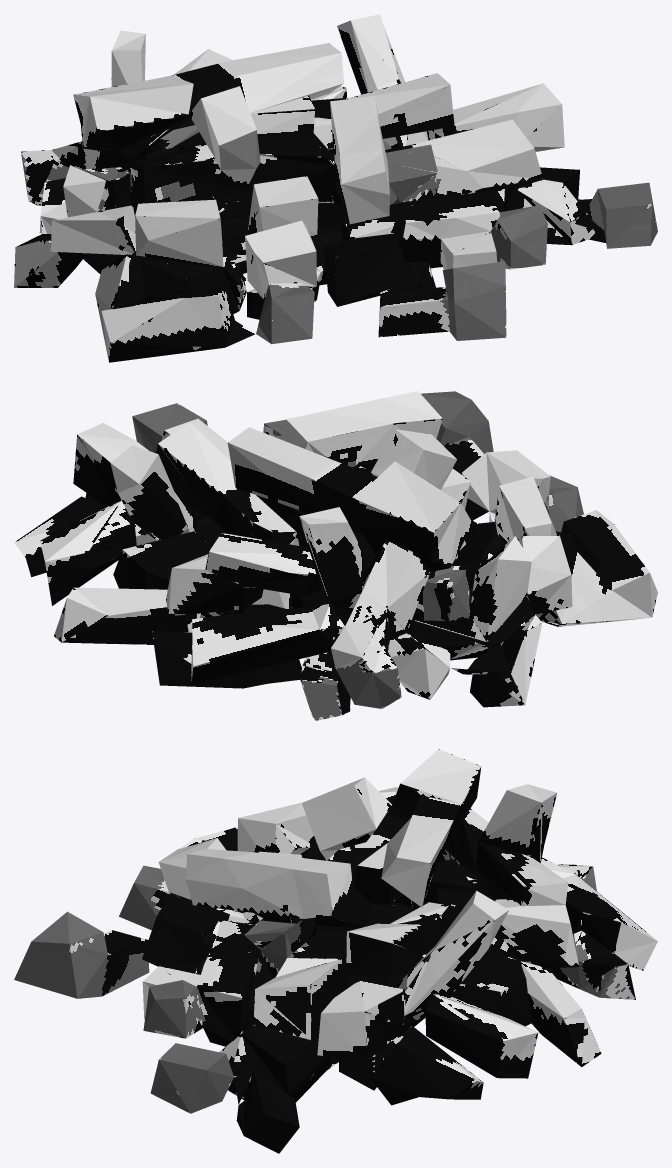
3 renders of one model, top to bottom at view 1: azimuth 30°, elevation 25°; view 2: azimuth 150°, elevation 25°; view 3: azimuth 270°, elevation 25°, orthographic.
Visible parts, largest first — view 1: OBJ0d1; view 2: OBJ0d1; view 3: OBJ0d1.
Part boxes in pixels (<box>): OBJ0d1: <box>14,14,657,362</box>; OBJ0d1: <box>14,391,657,720</box>; OBJ0d1: <box>14,749,657,1153</box>.
Bounding box in the file's own units: 0.4468 × 0.1657 × 0.4636.
1 material, 1 textured.
